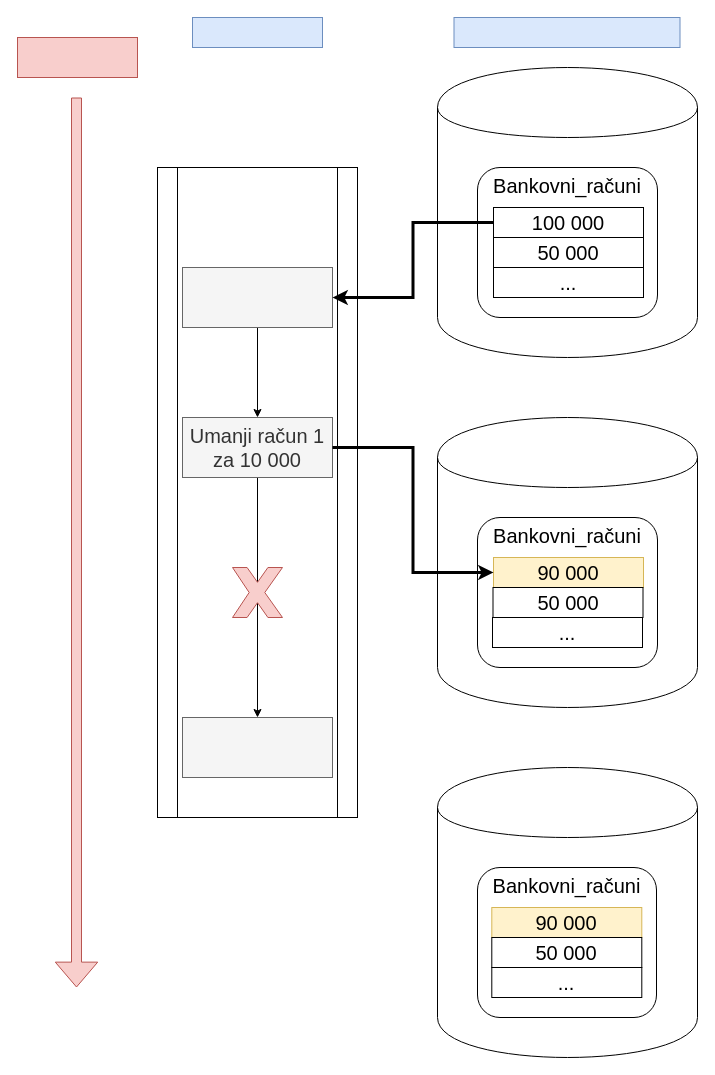
The diagram is 715 pixels wide and 1075 high, and some of its shapes have lost their labels. Here are the shapes that lost their labels. From the top down, the box of each, then its label:
(192, 16, 322, 48): Program
(453, 16, 680, 48): Stanje baze podataka
(16, 36, 138, 78): VREME
(182, 266, 332, 328): Dohvati račun 1
(232, 566, 282, 618): GREŠKA
(182, 716, 332, 778): Program se prekida
